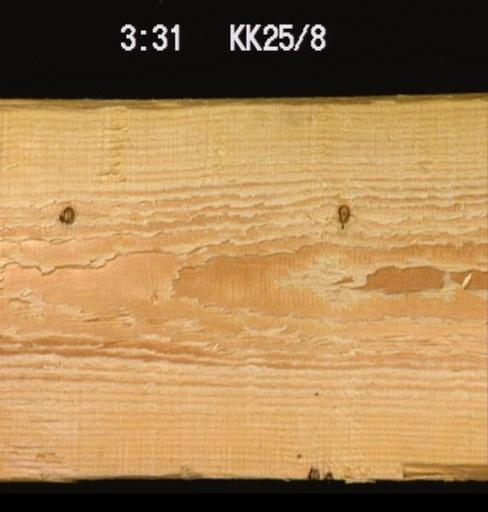dry_knot: (57, 204, 75, 224), (335, 202, 349, 223)
edge_knot: (306, 465, 318, 478), (322, 470, 333, 479)
wave: (0, 96, 193, 119), (396, 454, 486, 477)
